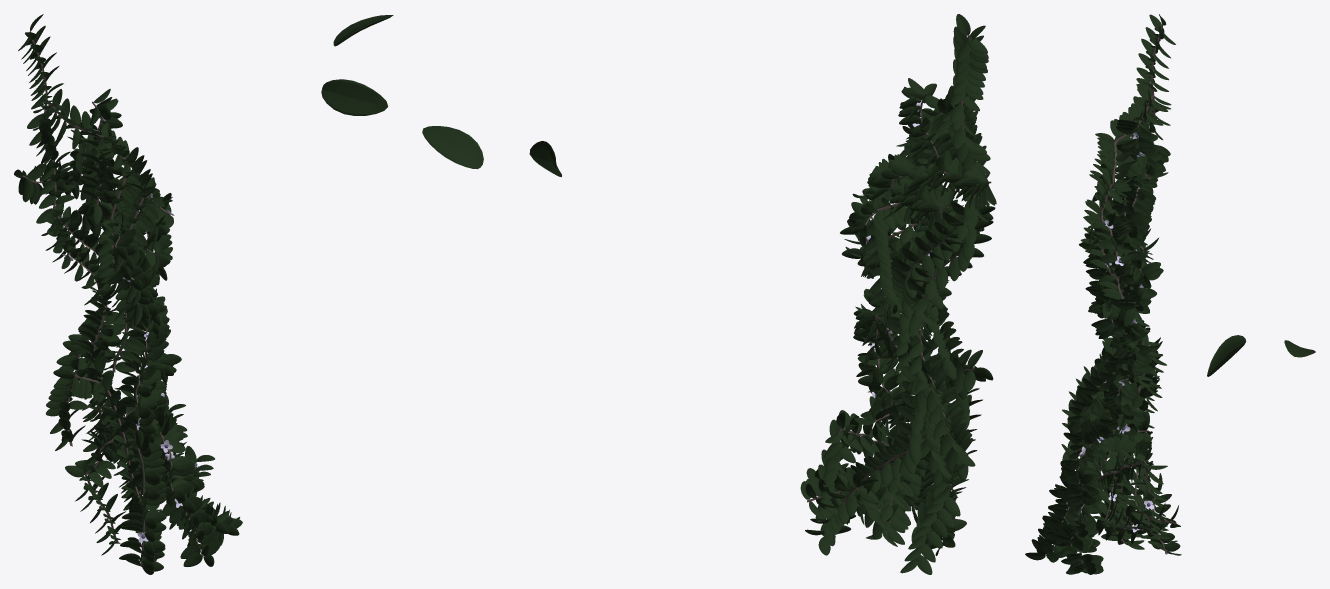
File: vine.fbx
3 renders of one model, left to right at view 1: azimuth 30°, elevation 25°; view 2: azimuth 150°, elevation 25°; view 3: azimuth 270°, elevation 25°, orthographic. The views are drawn at different scales.
Parts seen in each view (by area): view 1: leaf 1, vine 1, vine 2, leaf 2, flowers; view 2: leaf 2, vine 1; view 3: vine 1, leaf 1, flowers.
Boxes of the visible parts, <box> form: leaf 1: <box>321,79,388,115</box>; vine 1: <box>29,31,195,542</box>; vine 2: <box>22,101,203,566</box>; leaf 2: <box>333,15,393,46</box>; flowers: <box>62,117,198,542</box>; leaf 2: <box>422,126,483,169</box>; vine 1: <box>807,35,975,546</box>; vine 1: <box>1071,24,1176,554</box>; leaf 1: <box>1207,335,1246,376</box>; flowers: <box>1065,132,1154,532</box>.
Size of what is drawn, in the model's own units: 253 by 291 by 150.
